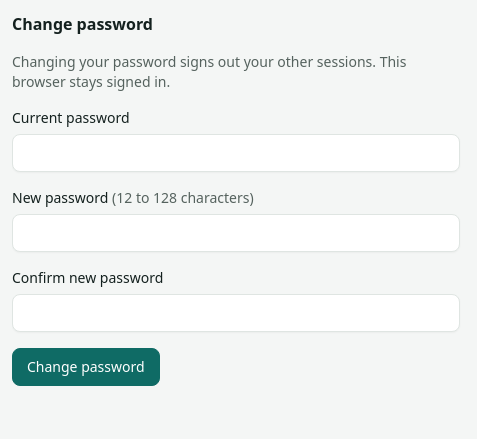
ChangePasswordForm › blocks submit when the confirmation does not match
The image size is (477, 439).
Type "current-password-1" into the password field labelled "Current password" at [236, 153], box [12,134,460,172]
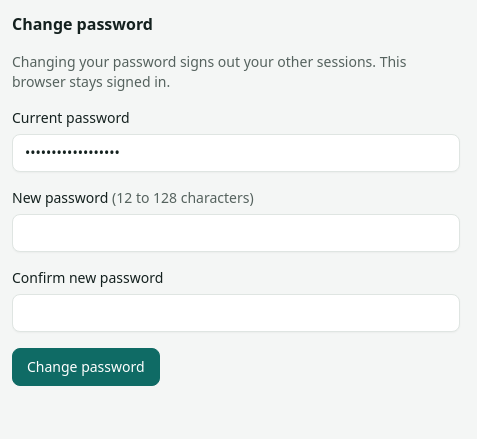
Type "brand-new-password-2" into the password field labelled "New password (12 to 128 characters)" at [236, 233], box [12,214,460,252]
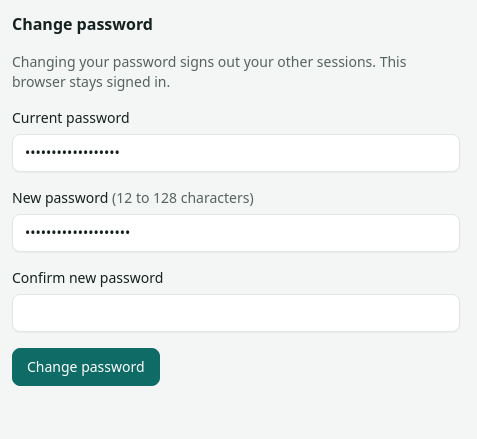
Type "something-else-3" into the password field labelled "Confirm new password" at [236, 313], box [12,294,460,332]
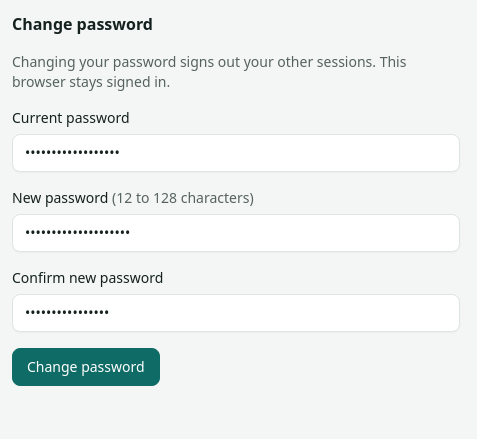
Click the button "Change password" at [86, 367], box [12,348,160,386]
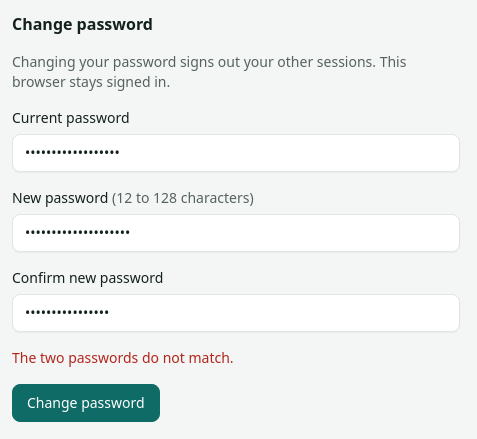
Result: the message reads "The two passwords do not match." at [12,348,234,367]
